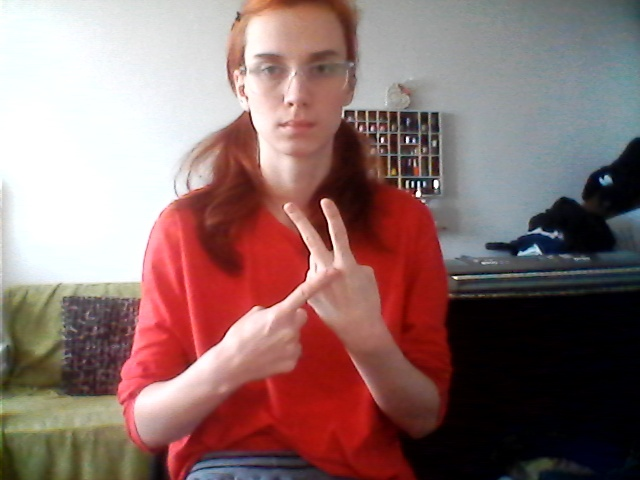y: (210, 191, 402, 396)
